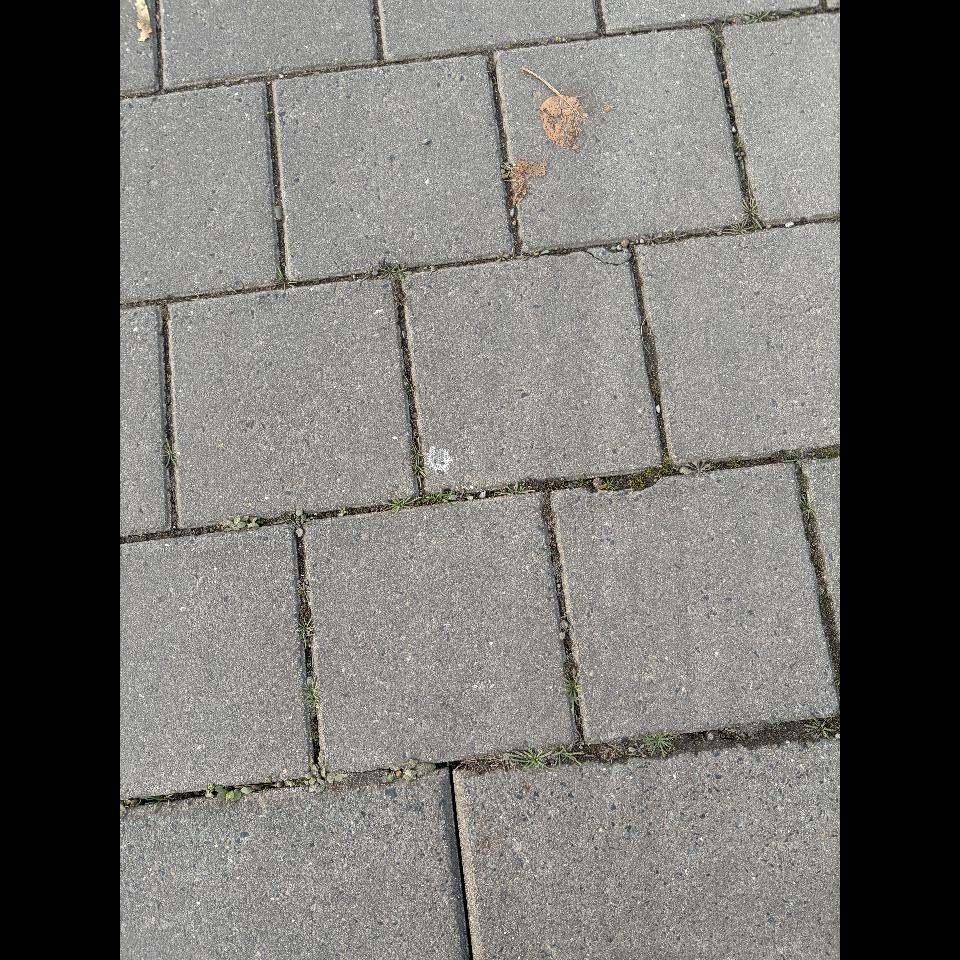weed: (308, 750, 346, 791), (727, 196, 763, 234), (551, 740, 584, 771), (205, 784, 261, 802), (641, 731, 674, 758), (564, 660, 582, 709), (510, 750, 551, 769), (701, 23, 725, 53), (302, 676, 320, 712), (402, 761, 435, 780), (382, 497, 421, 513), (411, 439, 426, 480), (805, 718, 834, 738), (679, 460, 717, 475), (378, 264, 409, 282), (299, 616, 314, 650), (291, 508, 307, 538), (276, 266, 295, 291), (498, 482, 531, 496), (801, 494, 817, 520), (163, 439, 177, 468), (745, 9, 774, 23), (426, 492, 456, 505), (222, 516, 248, 531), (733, 134, 745, 159), (604, 477, 617, 491), (394, 293, 407, 307), (727, 458, 744, 468), (576, 475, 588, 488), (297, 578, 308, 590), (250, 521, 257, 527)
